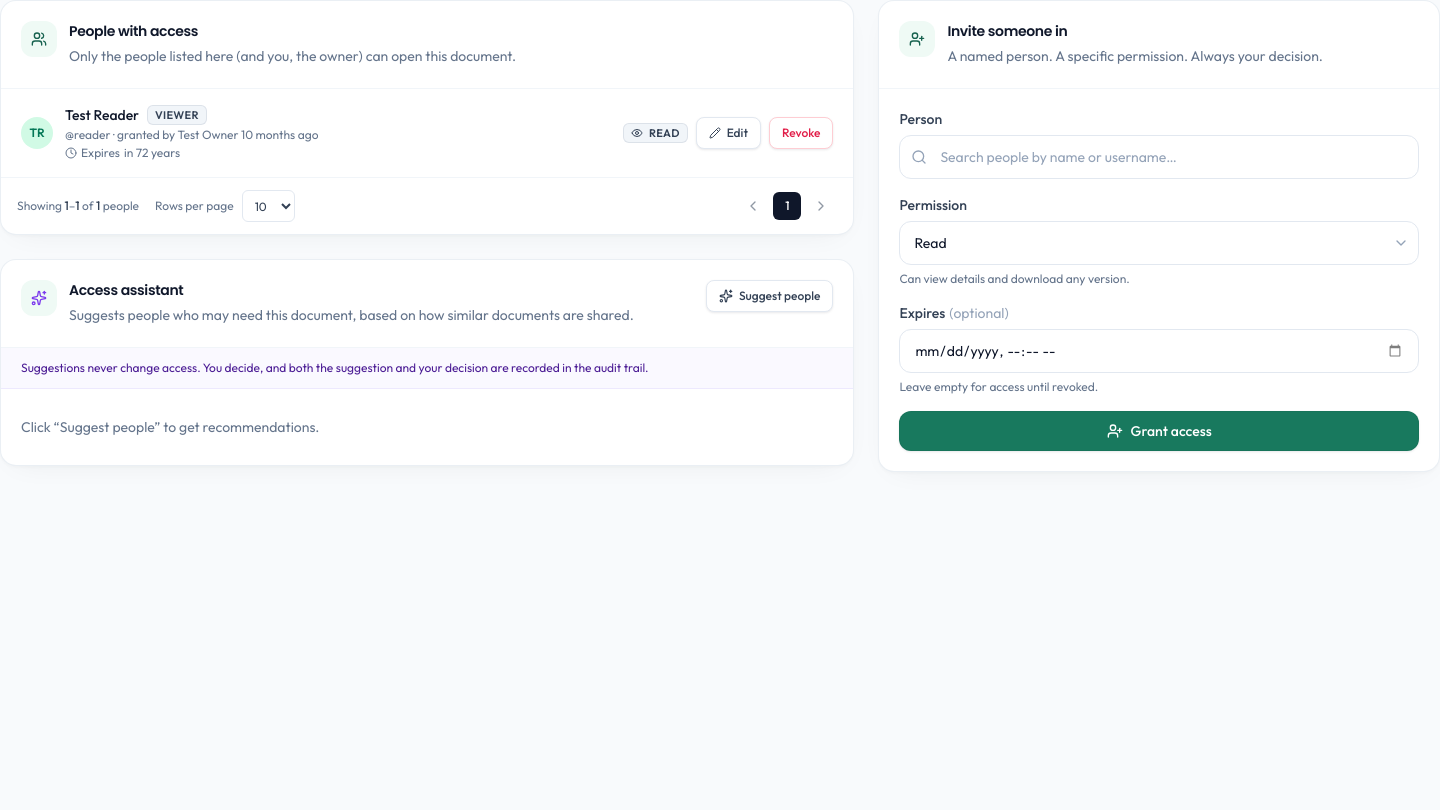
editing an existing grant › keeps the permission editor open when the server rejects a change
Click the button with aria-label "Edit access for Test Reader" at (728, 133), box [696, 117, 761, 149]
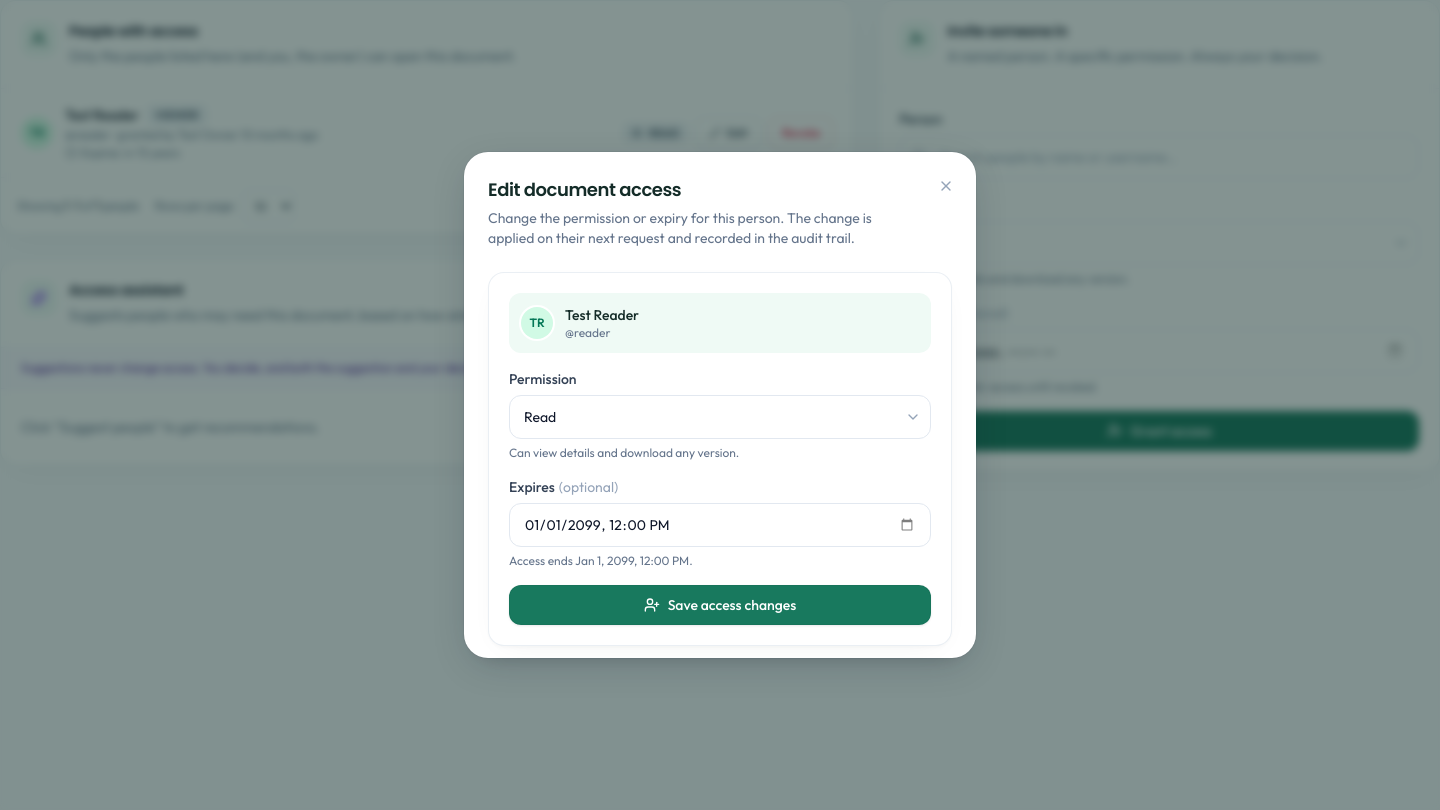
Click the button "Save access changes" at (720, 605), box [509, 585, 931, 625]
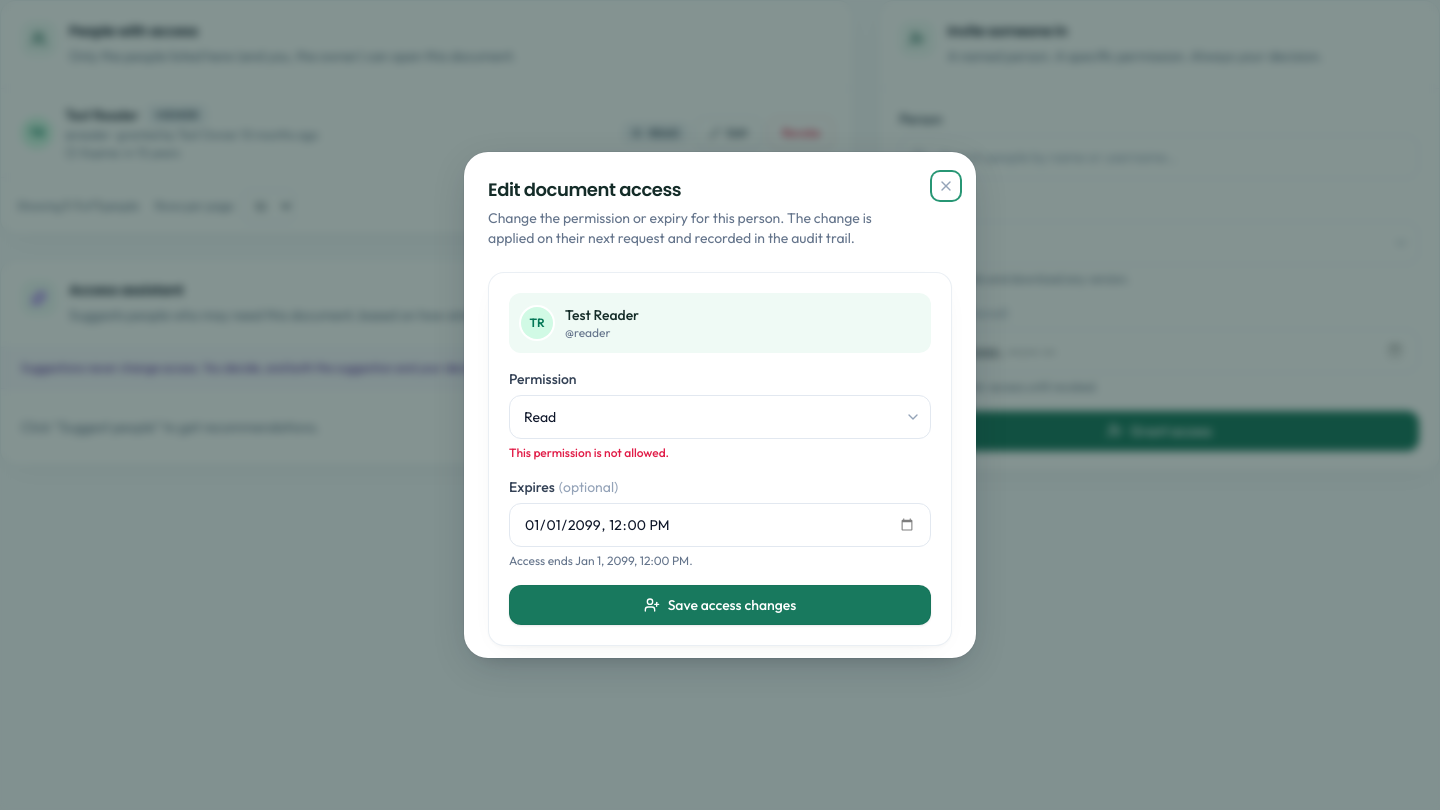
Now the dialog is shown, box [464, 152, 976, 658]
Now the message reads "This permission is not allowed.", box [509, 445, 669, 460]
